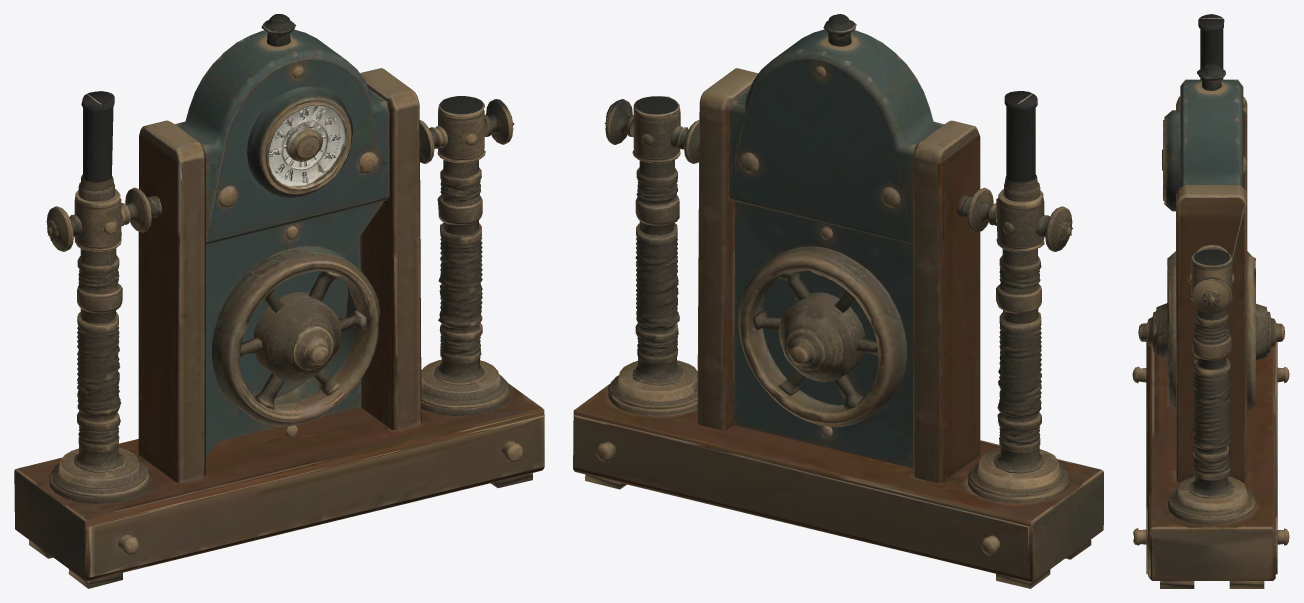
Rendered from tester.glb.
3 views of the same model, side by side, from view 1: azimuth 30°, elevation 25°; view 2: azimuth 150°, elevation 25°; view 3: azimuth 270°, elevation 25° (orthographic). The views are drawn at different scales.
Parts seen in each view (by area): view 1: midway-fit; view 2: midway-fit; view 3: midway-fit.
Part boxes in pixels (x1,y1,x2,y2): midway-fit: (14,14,544,588); midway-fit: (573,14,1103,588); midway-fit: (1132,14,1289,588).
Size of the model in its own units: 0.9739 by 1 by 0.3304.
Materials: 1 (1 with a texture image).
